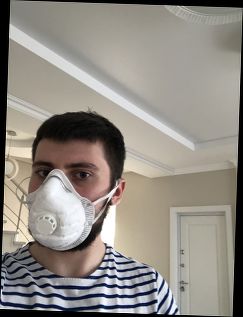with_mask: (25, 155, 108, 253)
